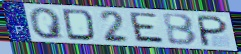2: (98, 9, 131, 43)
B: (160, 13, 199, 47)
D: (61, 8, 97, 42)
E: (129, 11, 167, 46)
P: (197, 14, 229, 48)
Q: (28, 7, 67, 40)
